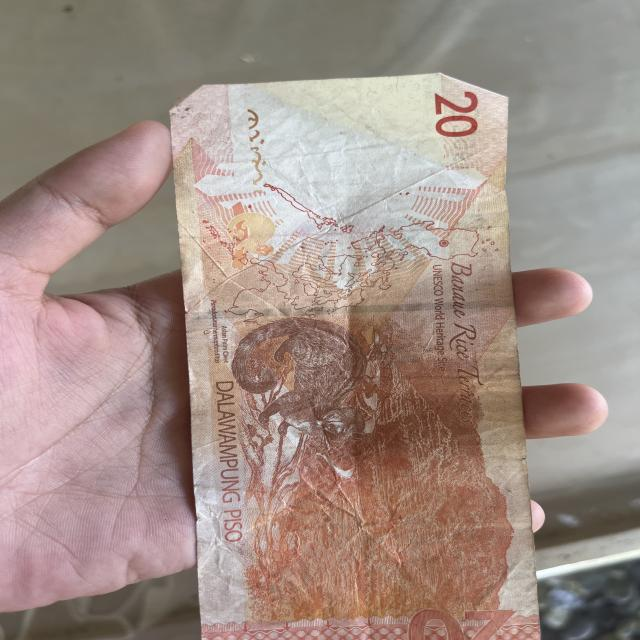20_civet: (227, 317, 362, 443)
20_civet_watermark: (224, 204, 285, 268)
